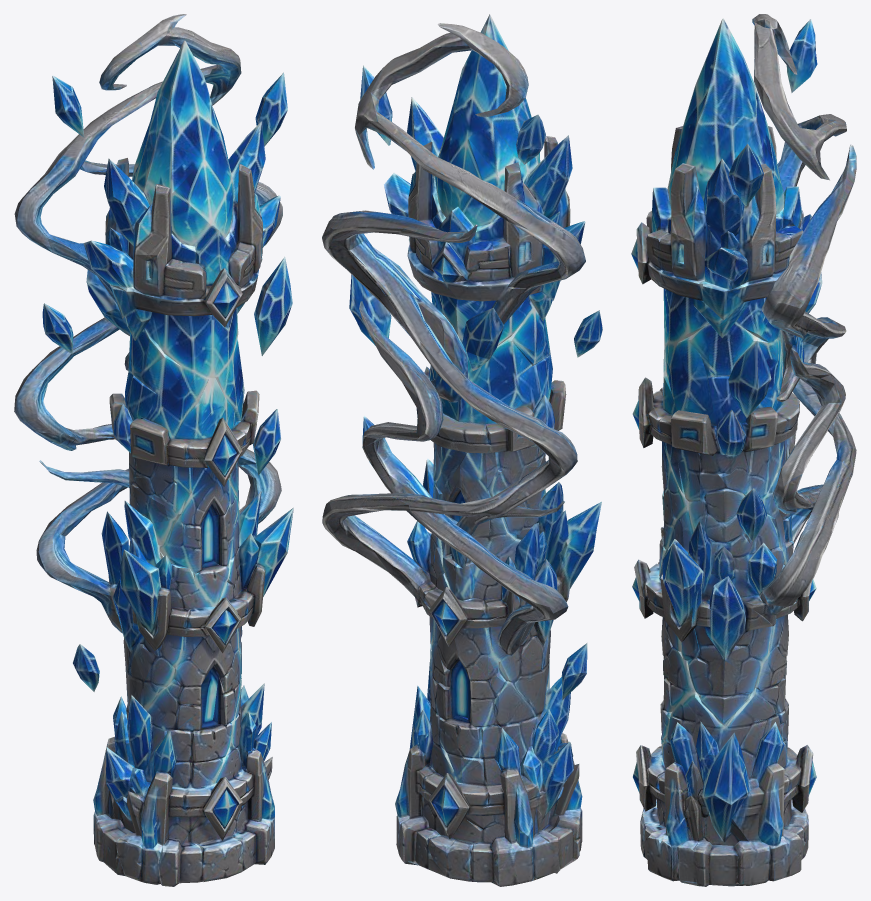
The model's file is frost-4.glb.
The picture shows the model from 3 angles, left to right: view 1: azimuth 30°, elevation 25°; view 2: azimuth 150°, elevation 25°; view 3: azimuth 270°, elevation 25°; orthographic projection. The views are drawn at different scales.
Visible parts, largest first — view 1: output_unwrapped; view 2: output_unwrapped; view 3: output_unwrapped.
Part boxes in pixels (x1,y1,x2,y2): output_unwrapped: [14, 14, 293, 886]; output_unwrapped: [322, 14, 602, 886]; output_unwrapped: [631, 14, 856, 886].
Size of the model in its own units: 0.6102 by 1.85 by 0.4527.
Materials: 1 (1 with a texture image).
